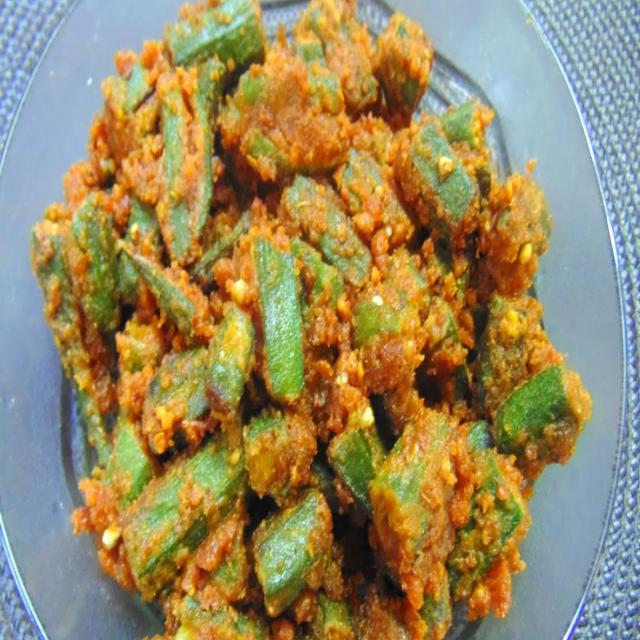BhindiMasala: (31, 0, 592, 640)
